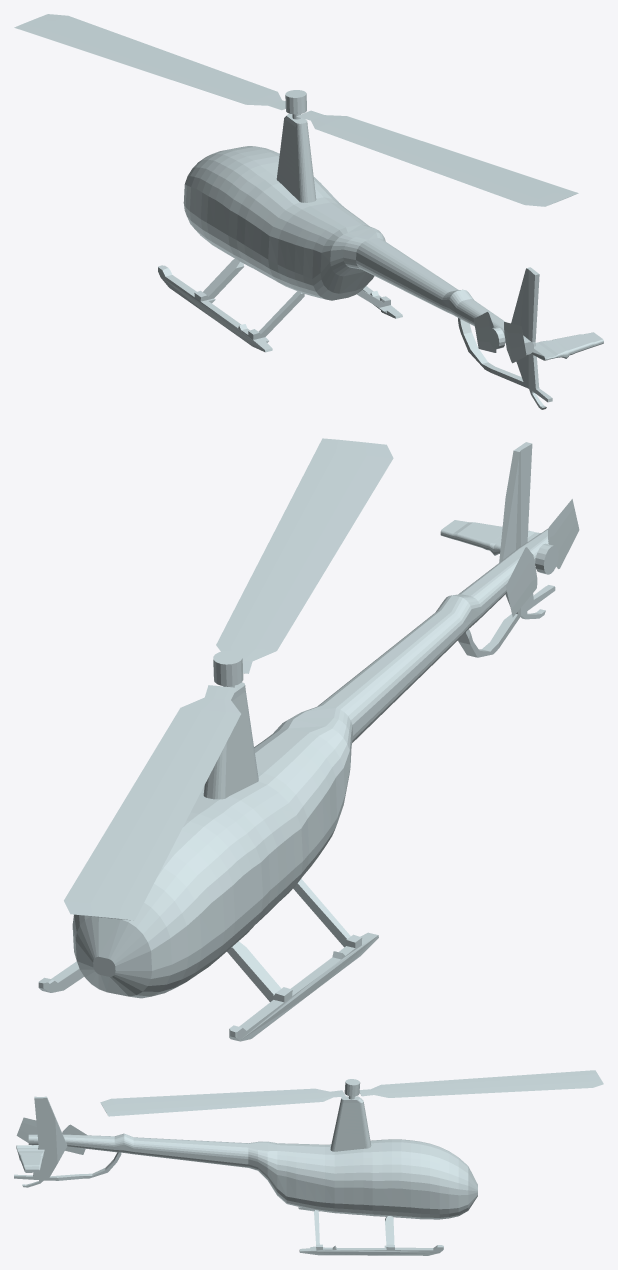
The picture shows the model from 3 angles, top to bottom: view 1: azimuth 30°, elevation 25°; view 2: azimuth 150°, elevation 25°; view 3: azimuth 270°, elevation 25°; orthographic projection. The views are drawn at different scales.
Visible parts, largest first — view 1: Aircraft visual hull, Rotor 1789714259815-i9uvmmxjdc, Rotor 1789714595633-v0ibyizmryr; view 2: Aircraft visual hull, Rotor 1789714259815-i9uvmmxjdc, Rotor 1789714595633-v0ibyizmryr; view 3: Aircraft visual hull, Rotor 1789714259815-i9uvmmxjdc, Rotor 1789714595633-v0ibyizmryr.
Part boxes in pixels (x1,y1,x2,y2): Aircraft visual hull: (158, 113, 603, 409); Rotor 1789714259815-i9uvmmxjdc: (14, 14, 578, 206); Rotor 1789714595633-v0ibyizmryr: (473, 312, 526, 363); Aircraft visual hull: (38, 442, 555, 1041); Rotor 1789714259815-i9uvmmxjdc: (64, 438, 393, 920); Rotor 1789714595633-v0ibyizmryr: (506, 499, 579, 617); Aircraft visual hull: (14, 1096, 477, 1255); Rotor 1789714259815-i9uvmmxjdc: (100, 1070, 603, 1116); Rotor 1789714595633-v0ibyizmryr: (16, 1117, 87, 1154).
Bounding box in the file's own units: 3.48 × 3.41 × 11.9.
